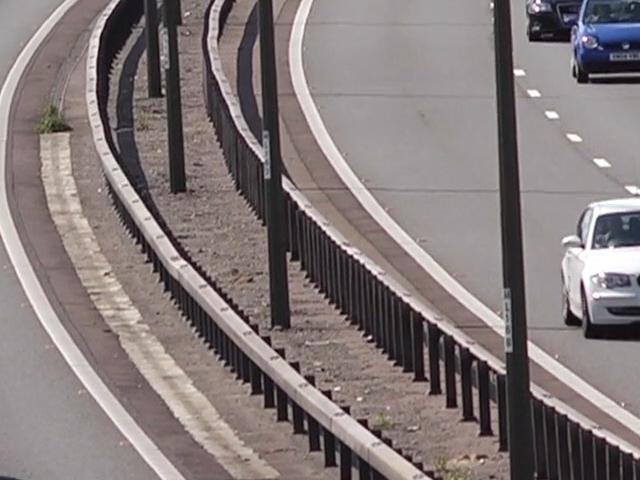car: (563, 201, 640, 333), (568, 0, 640, 76), (513, 0, 633, 38)
